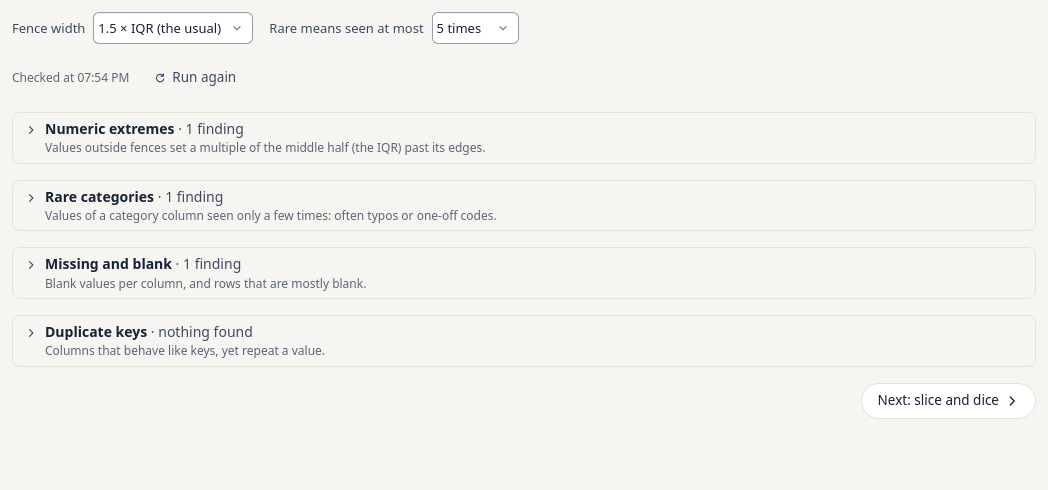
Test: OutliersStep › folds every box to its header line until opened
Expected: the button "Show these rows" is not shown
Click the button "Numeric extremes" at [110, 128], box [13,113,1035,163]
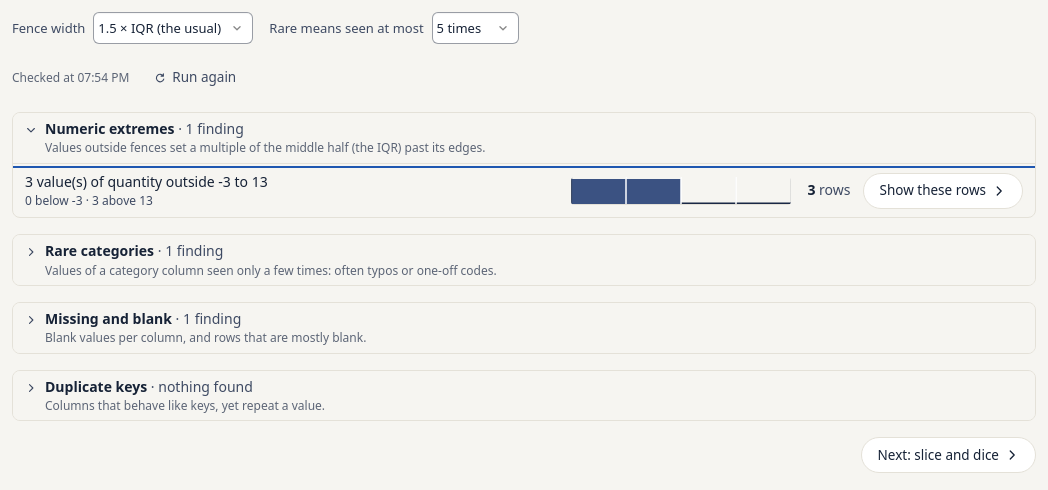
Expected: the button "Show these rows" is shown, [862,172,1023,208]
